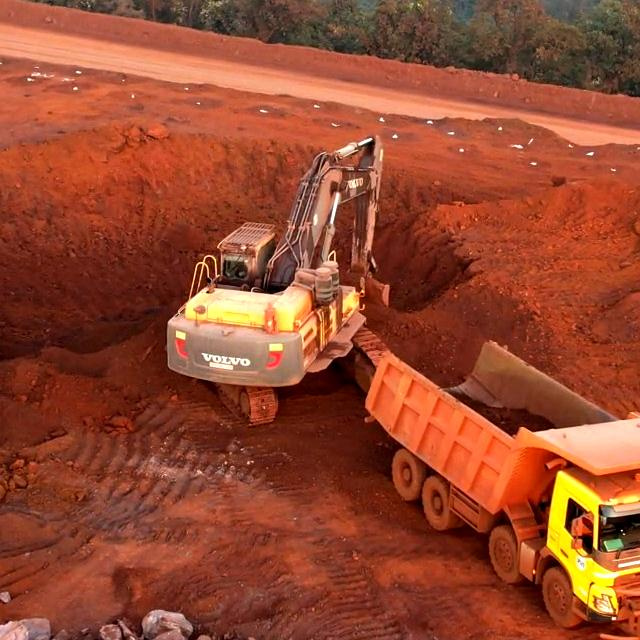Dumper truck: (492, 424, 640, 577)
Excavator: (162, 224, 360, 416)
